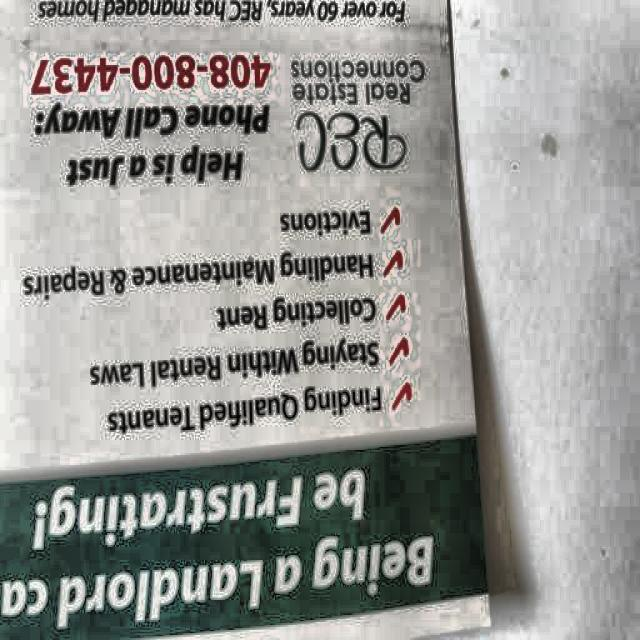paper: (6, 1, 498, 632)
